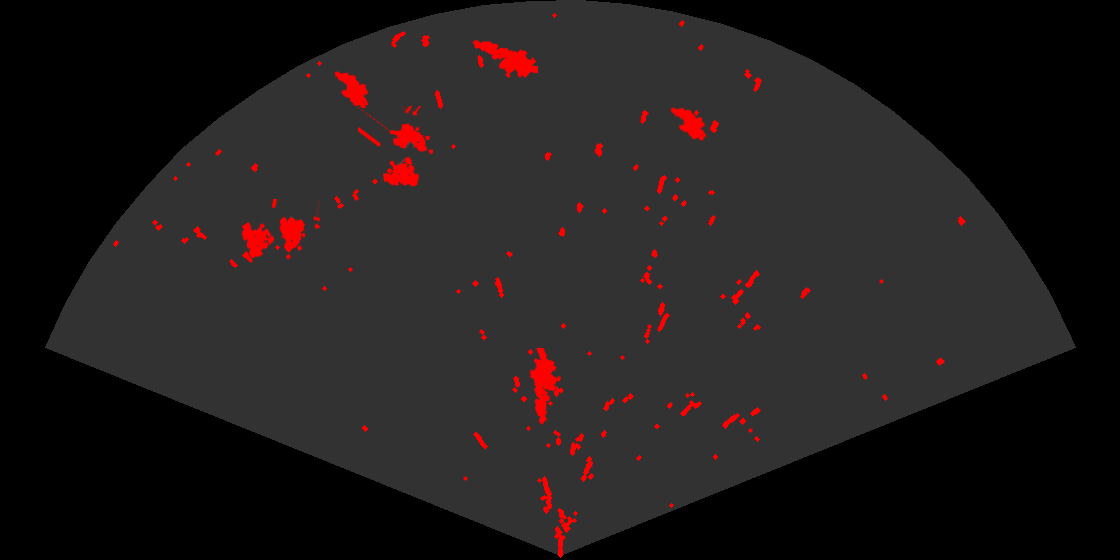AUV: (333, 70, 370, 110), (669, 106, 708, 142)
cage: (358, 106, 435, 188), (240, 199, 320, 261)
frogman: (471, 39, 538, 80), (528, 348, 563, 426)
